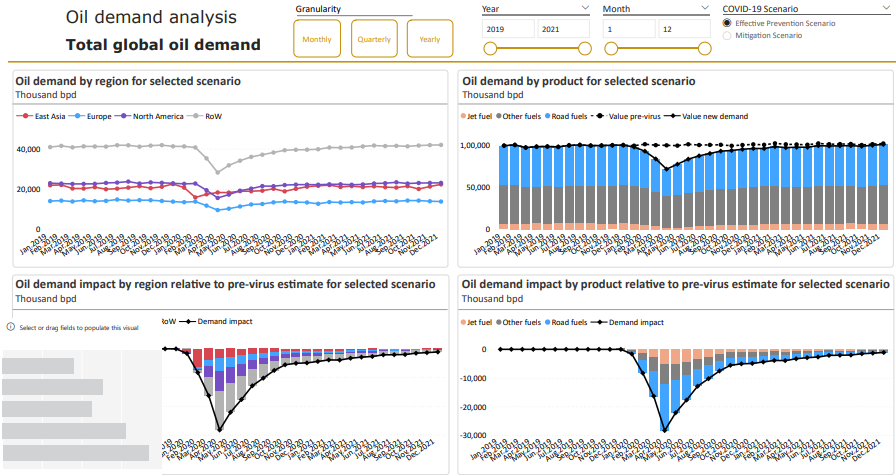

This screenshot's page, from the dashboard's own definition file:
{"tool":"powerbi","page":{"name":"Demand by fuel type","canvas":[1700,900],"ordinal":3},"visuals":[{"type":"textbox","box":[548,0,300.5,33.9],"z":0},{"type":"basicShape","box":[10.3,512.4,557.1,380.6],"z":1000},{"type":"basicShape","box":[1132.3,513.5,557.5,380.5],"z":2000},{"type":"basicShape","box":[569.7,512.4,558.3,380.6],"z":3000},{"type":"basicShape","box":[10.4,128.4,557.5,380.5],"z":4000},{"type":"basicShape","box":[570.2,128.4,557.5,380.5],"z":5000},{"type":"basicShape","box":[1132.6,128.4,557.1,380.6],"z":6000},{"type":"image","box":[9.2,5.7,87.1,92.9],"z":7000},{"type":"basicShape","box":[8,188,562.7,18.7],"z":8000},{"type":"basicShape","box":[568,188.5,562.8,19.4],"z":9000},{"type":"basicShape","box":[1130.3,189.1,561.7,18.3],"z":10000},{"type":"textbox","box":[19.4,131.7,530.5,64.5],"z":11000},{"type":"textbox","box":[578.9,133,539.9,64.2],"z":12000},{"type":"textbox","box":[1140.6,134.1,539.9,64.2],"z":13000},{"type":"textbox","box":[113.5,0,520.4,118.1],"z":14000},{"type":"basicShape","box":[0,99.1,1699.8,35.5],"z":15000},{"type":"slicer","title":"M scenario slicer","fields":{"Values":["MonthlyMain.COVID-19 Scenario"]},"box":[1357.6,0,342.4,106.6],"z":17000},{"type":"lineStackedColumnComboChart","title":"M other imp","fields":{"Category":["Data.Period"],"Series":["Data.Corona-region"],"Y":["Sum(Data.Value demand impact kbbl/d)"],"Y2":["Sum(Data.Value demand impact kbbl/d)"]},"box":[1132.9,532.3,539.3,362.3],"z":18000},{"type":"lineStackedColumnComboChart","title":"M Other","fields":{"Category":["Data.Period"],"Series":["Data.Corona-region"],"Y":["Sum(Data.Value new demand)"],"Y2":["Sum(Data.Value pre-virus)","Sum(Data.Value new demand)"]},"box":[1141.1,200.1,539.6,304.6],"z":19000},{"type":"slicer","title":"M slicer","fields":{"Values":["MonthlyMain.Month"]},"box":[1130.4,0,225.4,178.2],"z":20000},{"type":"lineStackedColumnComboChart","title":"M jet imp","fields":{"Category":["Data.Period"],"Series":["Data.Corona-region"],"Y":["Sum(Data.Value demand impact kbbl/d)"],"Y2":["Sum(Data.Value demand impact kbbl/d)"]},"box":[578.3,520.2,540.9,362.7],"z":21000},{"type":"lineStackedColumnComboChart","title":"M Jet","fields":{"Category":["Data.Period"],"Series":["Data.Corona-region"],"Y":["Sum(Data.Value new demand)"],"Y2":["Sum(Data.Value pre-virus)","Sum(Data.Value new demand)"]},"box":[578.3,197.5,539.6,304.6],"z":22000},{"type":"lineStackedColumnComboChart","title":"M road imp","fields":{"Category":["Data.Period"],"Series":["Data.Corona-region"],"Y":["Sum(Data.Value demand impact kbbl/d)"],"Y2":["Sum(Data.Value demand impact kbbl/d)"]},"box":[19.4,518.9,539.6,362.7],"z":23000},{"type":"lineStackedColumnComboChart","title":"M road","fields":{"Category":["Data.Period"],"Series":["Data.Corona-region"],"Y":["Sum(Data.Value new demand)"],"Y2":["Sum(Data.Value pre-virus)","Sum(Data.Value new demand)"]},"box":[19.4,198.8,539.6,304.6],"z":24000},{"type":"slicer","title":"Year slicer","fields":{"Values":["MonthlyMain.Year"]},"box":[890.7,0,228.5,169.1],"z":40000},{"type":"basicShape","box":[545,17.2,237.9,25.9],"z":41000},{"type":"actionButton","title":"Button M","box":[548.6,37,89.1,71],"z":42000},{"type":"actionButton","title":"Button Q","box":[654.4,37,89.1,71],"z":43000},{"type":"actionButton","title":"Button Y","box":[761.6,37,89.1,71],"z":44000}]}

Visuals, with their boxes in screenshot pixels (x1, y1, x2, y2), scaled from the page's 1700x900 canvas onto the 896x475 screenshot:
textbox: bbox=(289, 0, 447, 18)
basicShape: bbox=(5, 270, 299, 471)
basicShape: bbox=(597, 271, 891, 472)
basicShape: bbox=(300, 270, 595, 471)
basicShape: bbox=(5, 68, 299, 269)
basicShape: bbox=(301, 68, 594, 269)
basicShape: bbox=(597, 68, 891, 269)
image: bbox=(5, 3, 51, 52)
basicShape: bbox=(4, 99, 301, 109)
basicShape: bbox=(299, 99, 596, 110)
basicShape: bbox=(596, 100, 892, 109)
textbox: bbox=(10, 70, 290, 104)
textbox: bbox=(305, 70, 590, 104)
textbox: bbox=(601, 71, 886, 105)
textbox: bbox=(60, 0, 334, 62)
basicShape: bbox=(0, 52, 895, 71)
"M scenario slicer" slicer: bbox=(716, 0, 895, 56)
"M other imp" lineStackedColumnComboChart: bbox=(597, 281, 881, 472)
"M Other" lineStackedColumnComboChart: bbox=(601, 106, 886, 266)
"M slicer" slicer: bbox=(596, 0, 715, 94)
"M jet imp" lineStackedColumnComboChart: bbox=(305, 275, 590, 466)
"M Jet" lineStackedColumnComboChart: bbox=(305, 104, 589, 265)
"M road imp" lineStackedColumnComboChart: bbox=(10, 274, 295, 465)
"M road" lineStackedColumnComboChart: bbox=(10, 105, 295, 266)
"Year slicer" slicer: bbox=(469, 0, 590, 89)
basicShape: bbox=(287, 9, 413, 23)
"Button M" actionButton: bbox=(289, 20, 336, 57)
"Button Q" actionButton: bbox=(345, 20, 392, 57)
"Button Y" actionButton: bbox=(401, 20, 448, 57)
